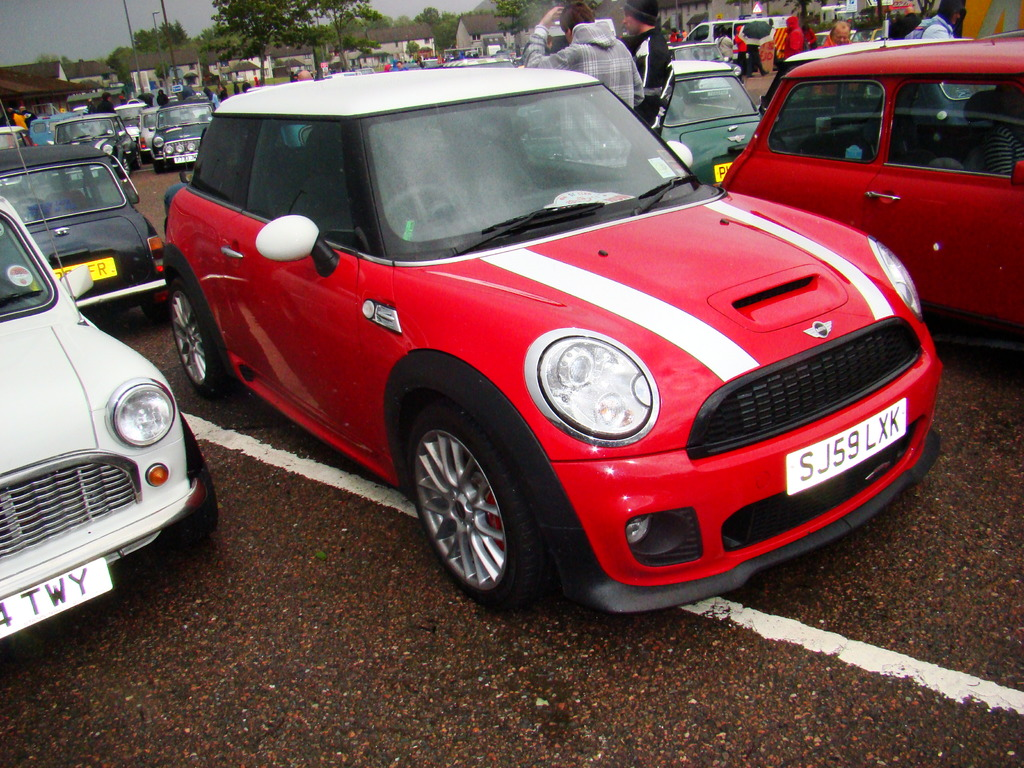Car: (163, 68, 943, 612), (0, 98, 216, 640), (721, 41, 1024, 348), (0, 149, 164, 320), (663, 64, 763, 185)
